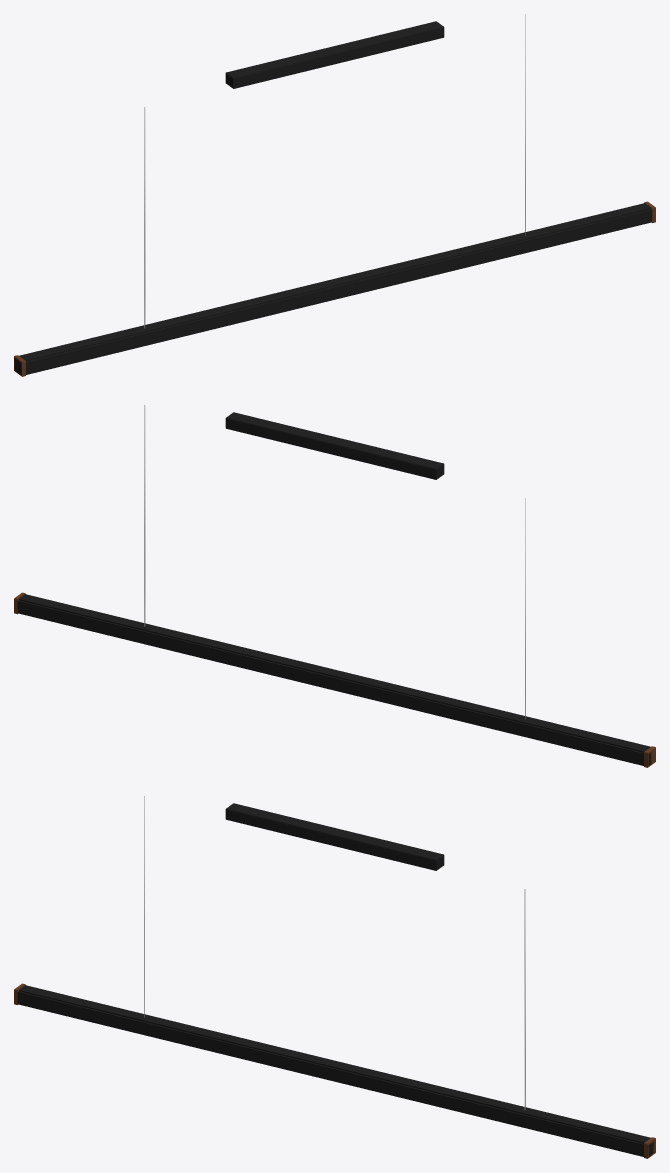
3 renders of one model, top to bottom at view 1: azimuth 30°, elevation 25°; view 2: azimuth 150°, elevation 25°; view 3: azimuth 330°, elevation 25°, orthographic.
Visible parts, largest first — view 1: aether-series-sky-b83; view 2: aether-series-sky-b83; view 3: aether-series-sky-b83.
Boxes of the visible parts, left/top/right/bottom form: aether-series-sky-b83: left=14, top=14, right=655, bottom=376; aether-series-sky-b83: left=14, top=405, right=655, bottom=767; aether-series-sky-b83: left=14, top=796, right=655, bottom=1158.
Size of the model in its own units: 1.8 by 0.6718 by 0.041.
